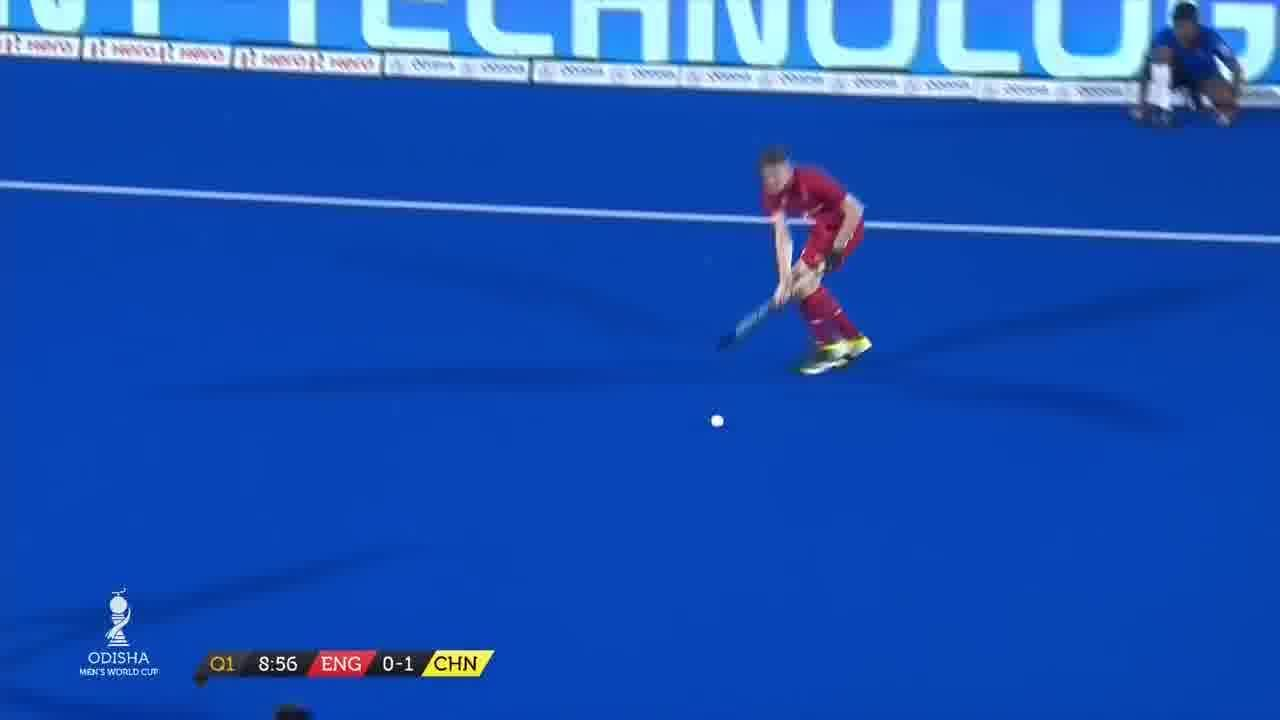ball: (701, 404, 731, 433)
